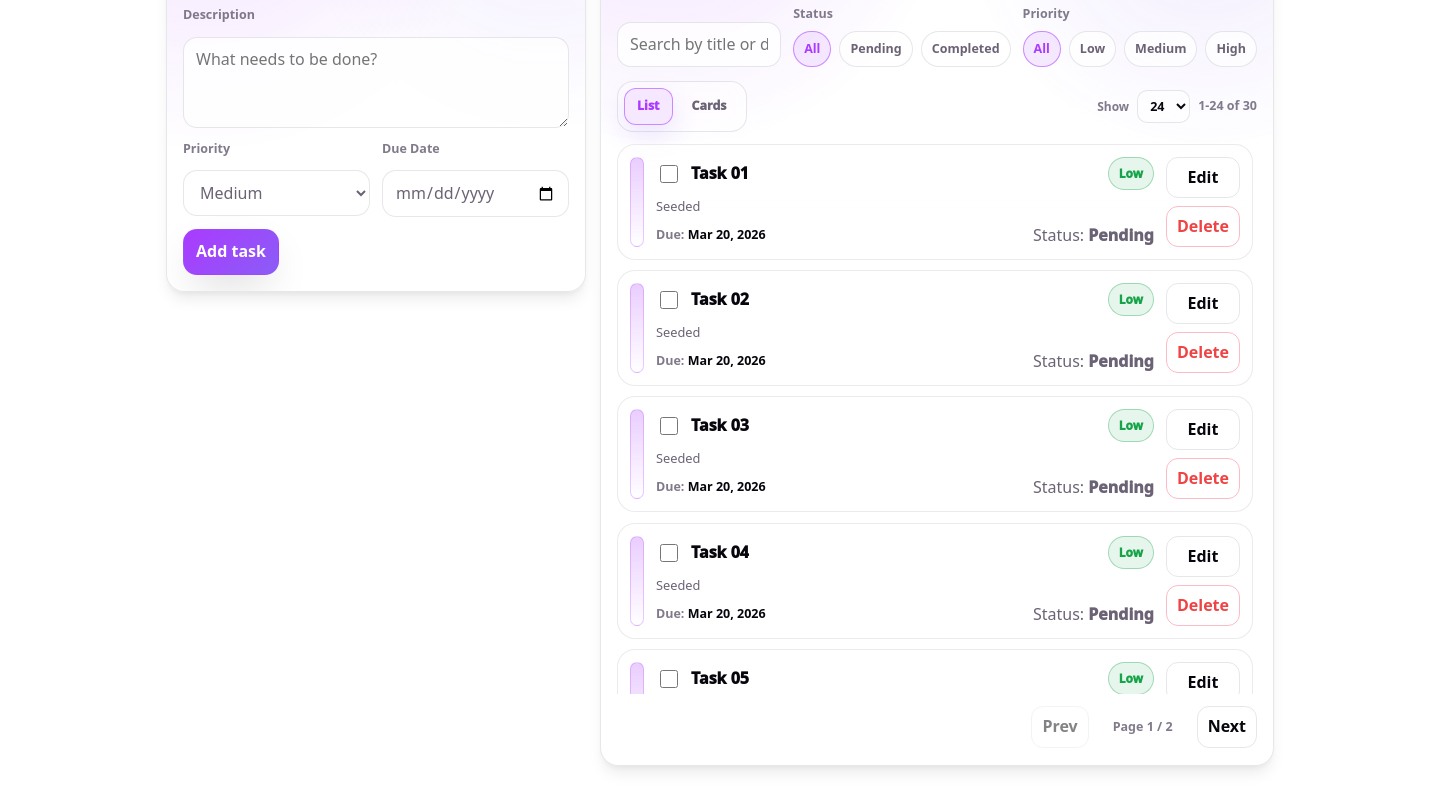
Test: TaskDashboard › pagination keeps large task sets manageable
(page scrolled)
Expected: the text "1-24 of 30" is shown, left=1198, top=98, right=1257, bottom=116
Expected: the text "Task 01" is shown, left=691, top=162, right=749, bottom=185
Click the button with aria-label "next page": [1227, 727] box left=1197, top=706, right=1257, bottom=748
(page scrolled)
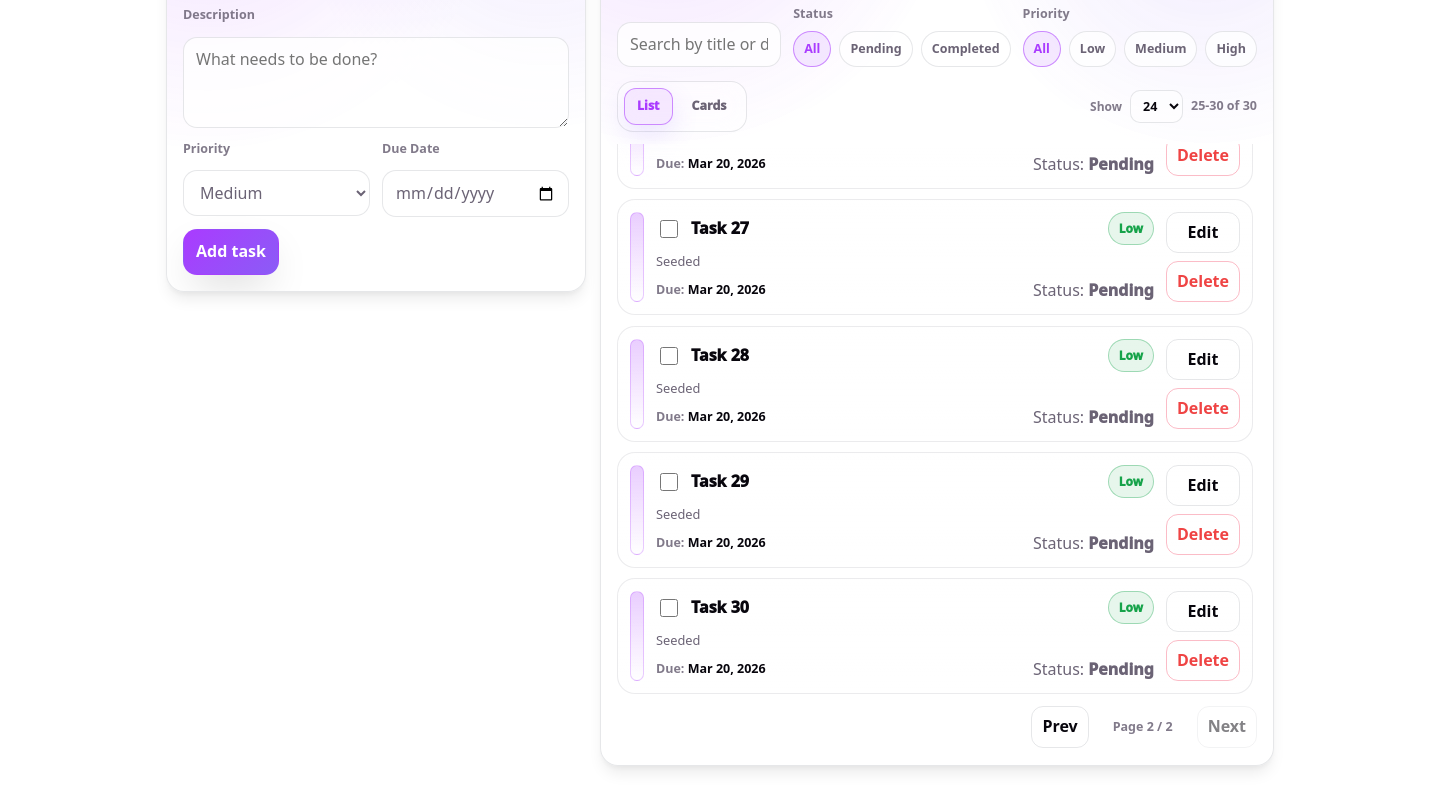
Now the text "25-30 of 30" is shown, box left=1191, top=98, right=1257, bottom=116
Now the text "Task 30" is shown, box left=691, top=597, right=749, bottom=620
